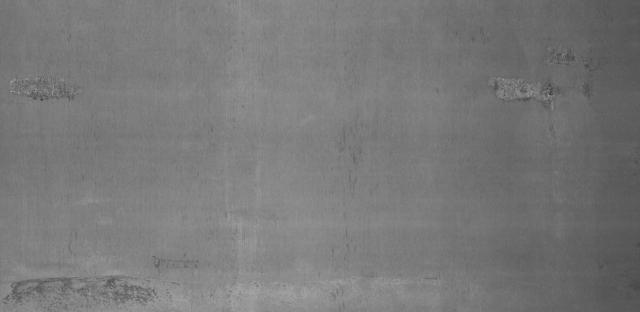rolled_pit: (13, 263, 184, 312), (4, 70, 90, 108), (485, 75, 567, 106)
